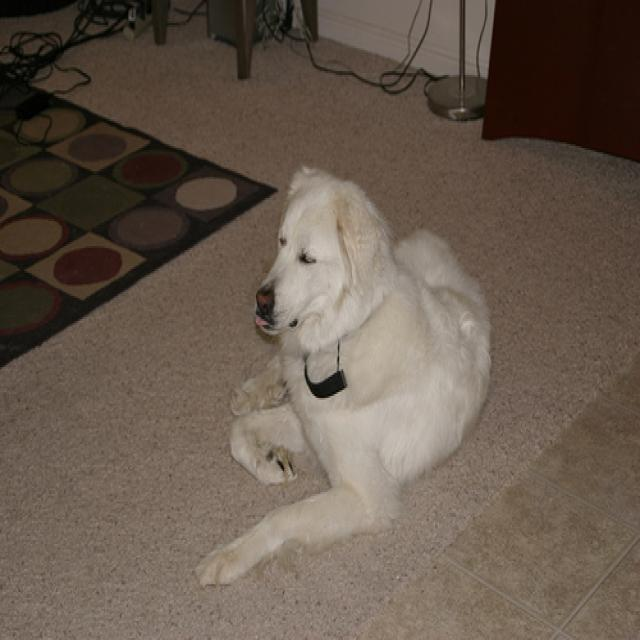dog: (254, 165, 386, 332)
